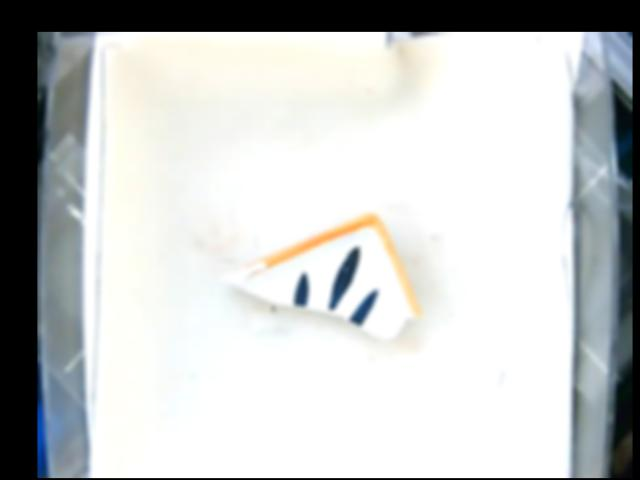China: (221, 213, 419, 338)
